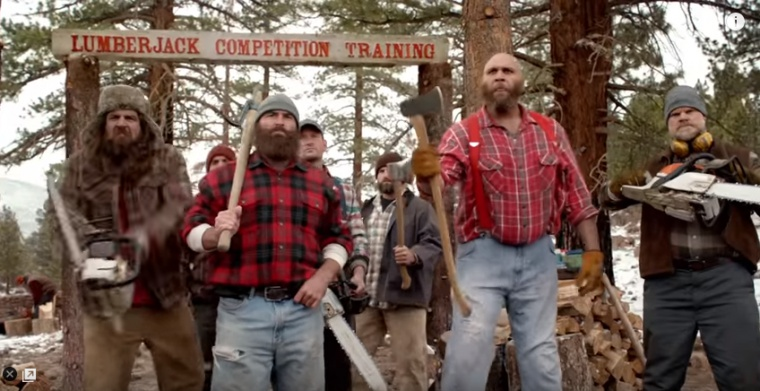bad: (481, 62, 517, 98), (101, 110, 137, 146)
